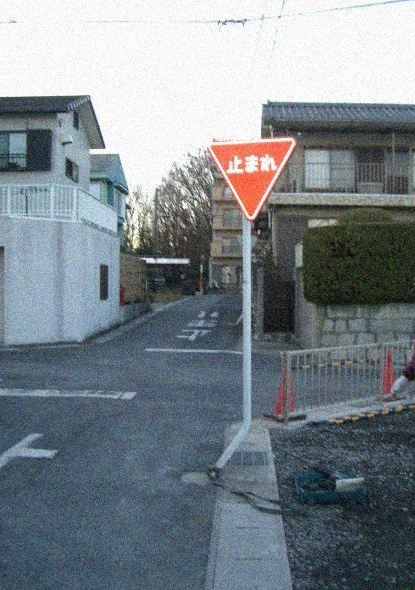Regulatory_sign_triangle: (206, 132, 303, 231)
